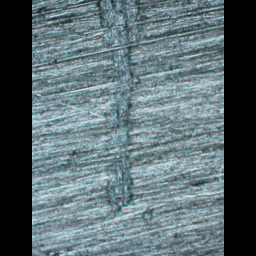d: (94, 0, 142, 212)
